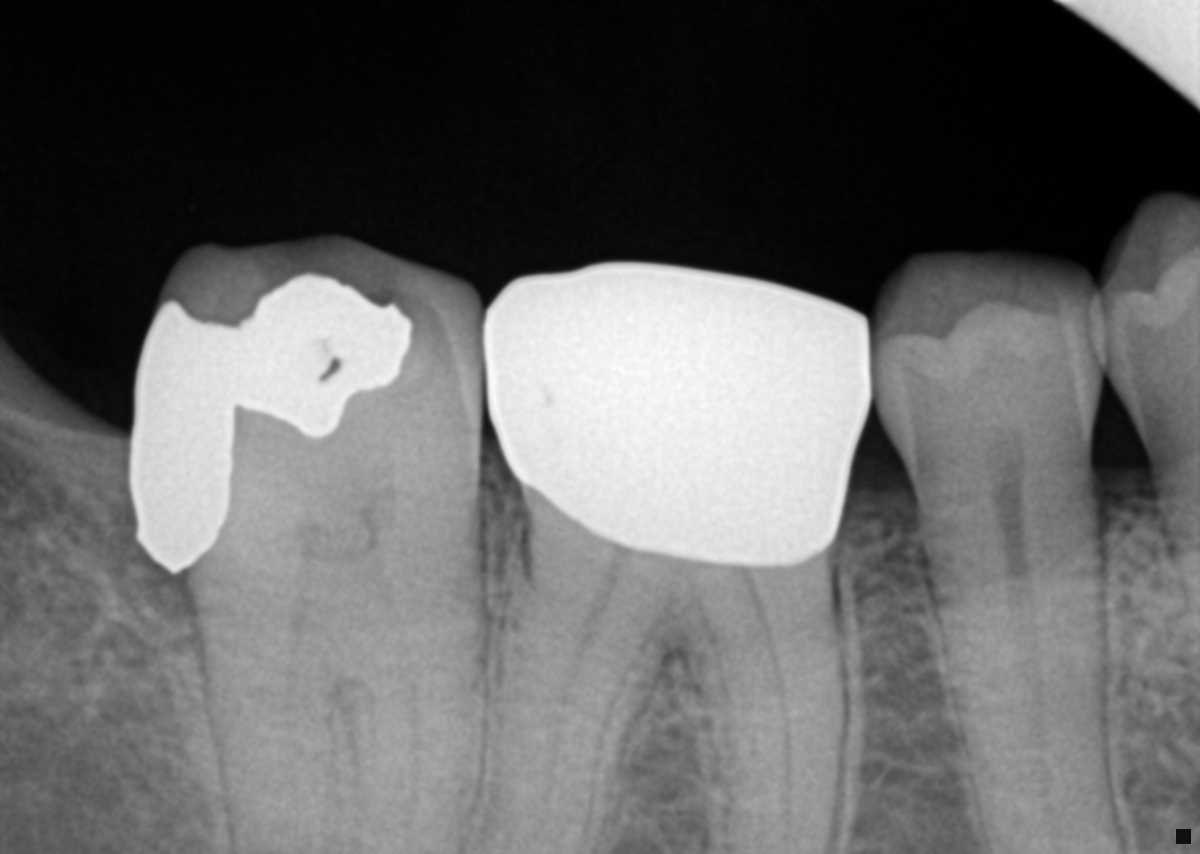Distal Canal: (521, 552, 632, 852)
Distal Root: (470, 490, 679, 854), (186, 560, 345, 854)
Main Canal: (989, 481, 1062, 844)
Main Root: (916, 461, 1131, 853), (1152, 461, 1200, 643)
Mesial Canal: (742, 575, 792, 847)
Mesial Root: (686, 552, 852, 854), (348, 502, 490, 850)
